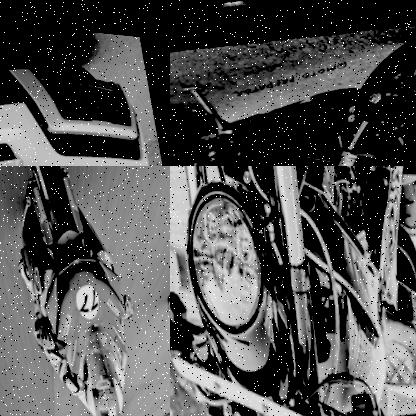bike: (170, 166, 416, 416), (170, 0, 416, 166), (0, 166, 139, 361)
